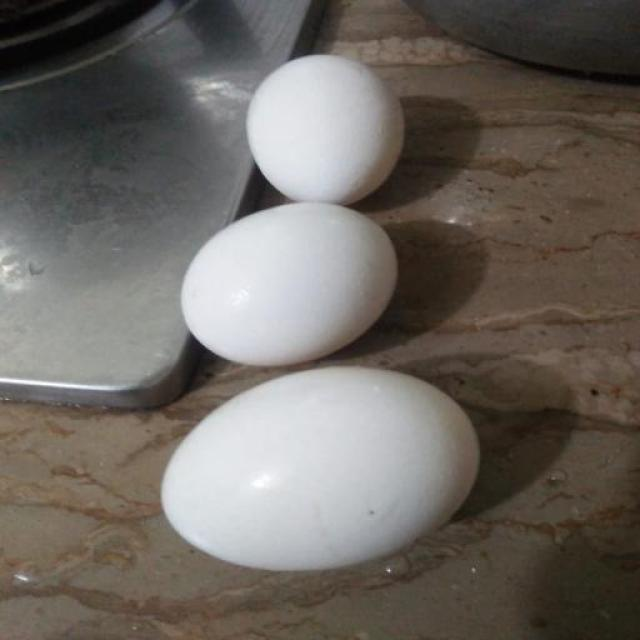telur: (162, 364, 479, 570), (182, 201, 398, 366), (243, 53, 402, 203)
